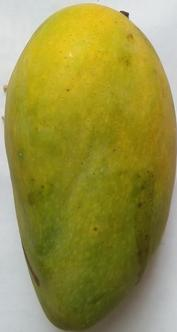PartiallyRipe: (1, 1, 177, 332)
